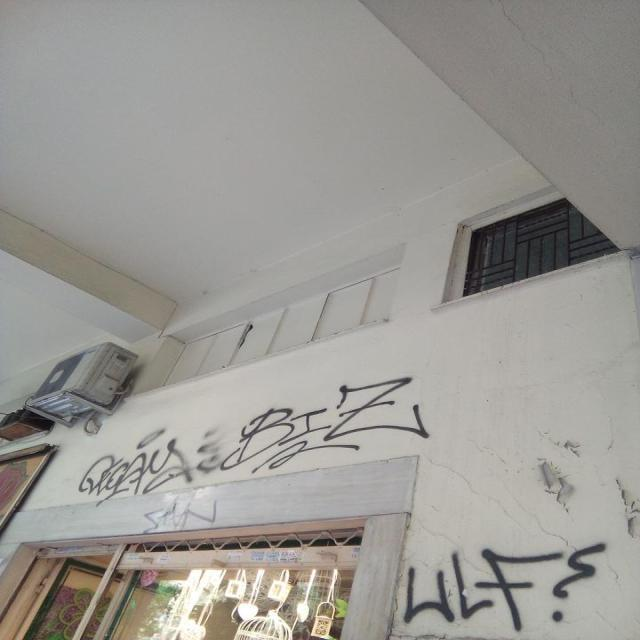nonspitting: (80, 376, 430, 505), (406, 544, 610, 626), (140, 496, 218, 534)
